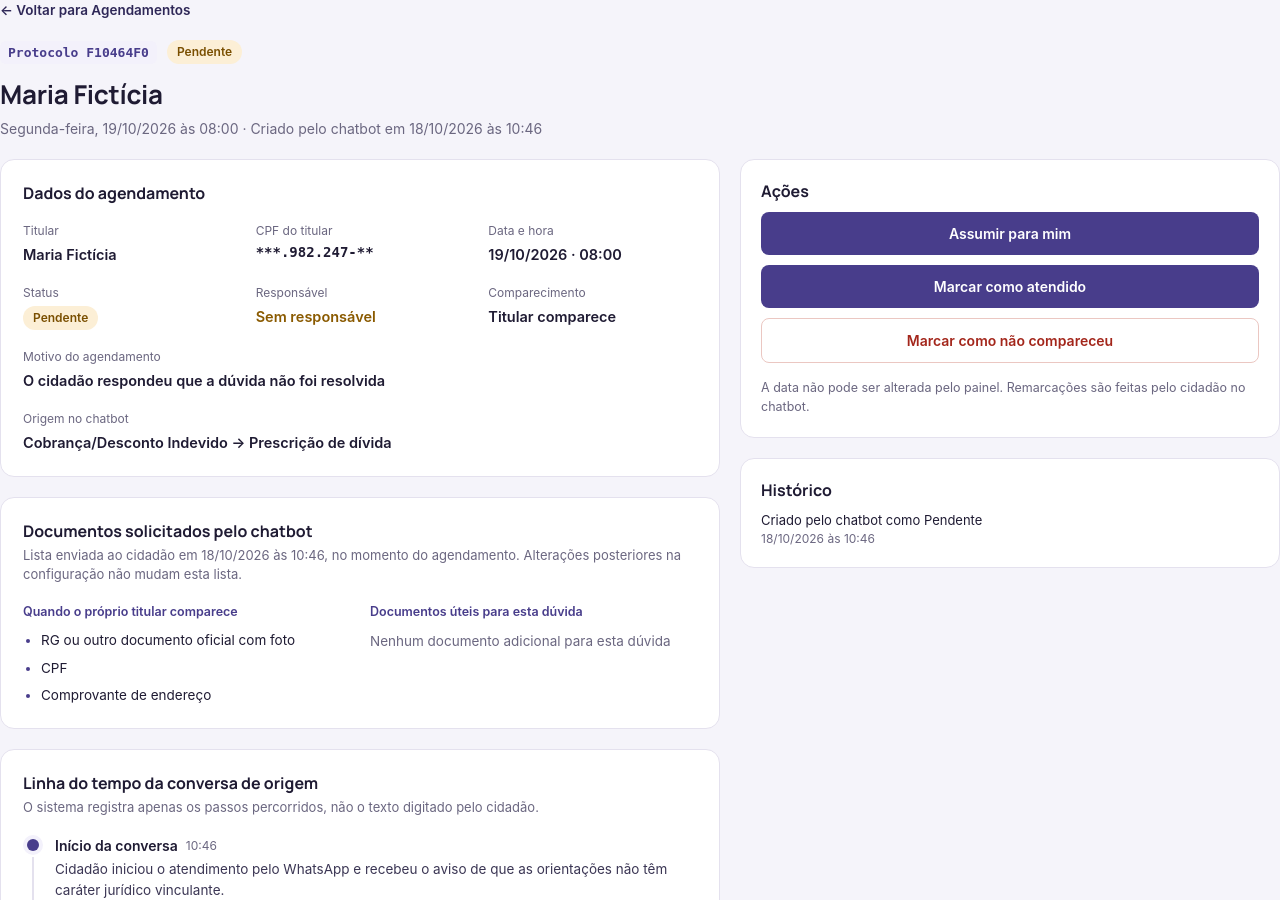
Test: AppointmentDetail.page: confirmação › num pendente, Marcar como não compareceu avisa que também assume
Expected: the heading "Maria Fictícia" is shown, [0, 76, 163, 112]
Click the button "Marcar como não compareceu" at (1010, 341), box [761, 318, 1259, 363]
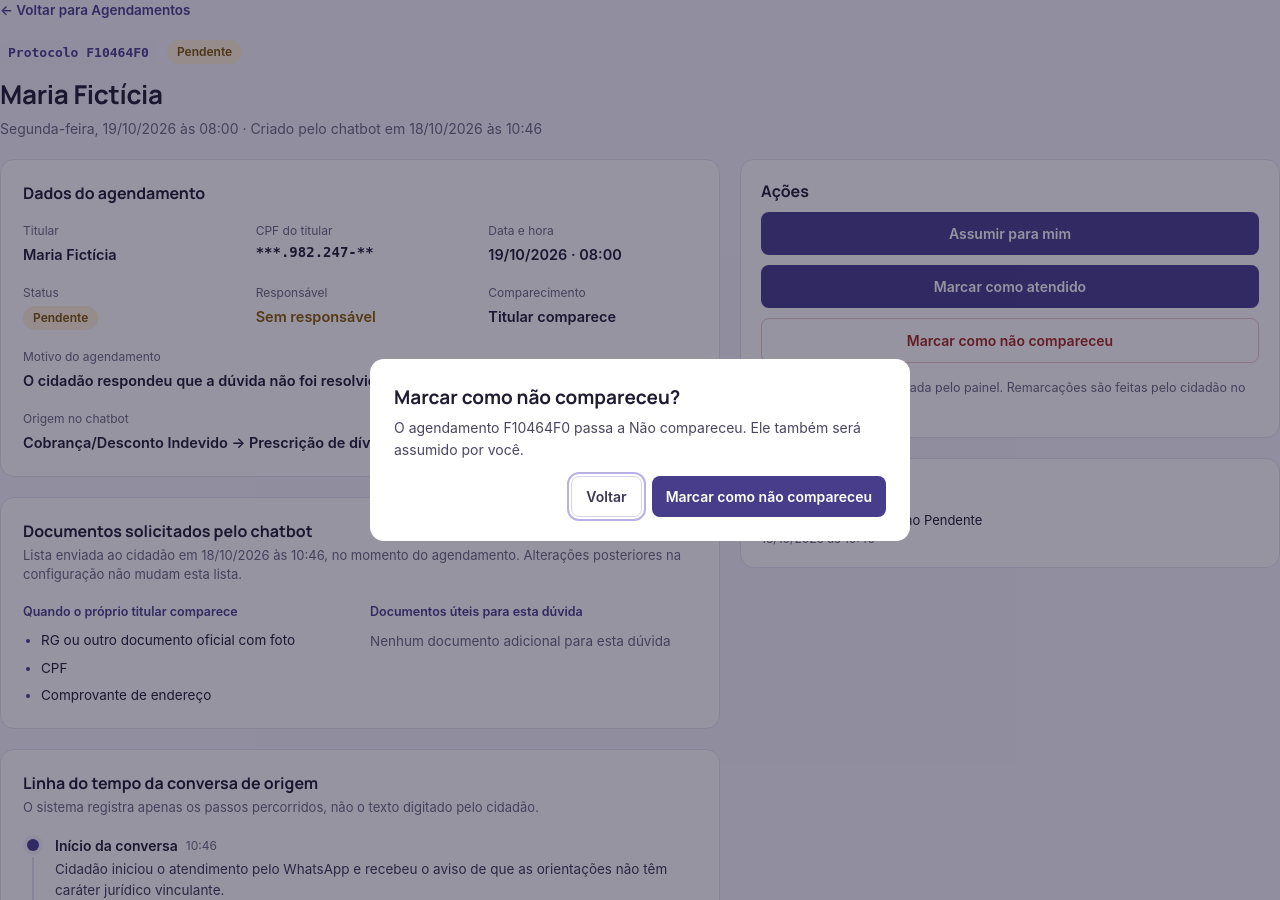
Expected: the button "Marcar como não compareceu" is shown, [652, 476, 886, 517]
